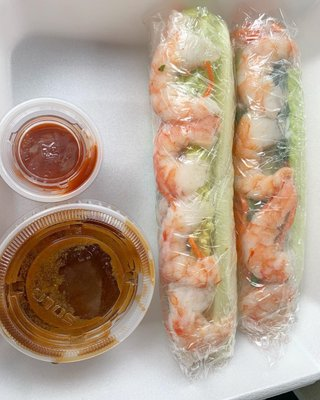sushi: (0, 202, 157, 365), (0, 97, 104, 202)
